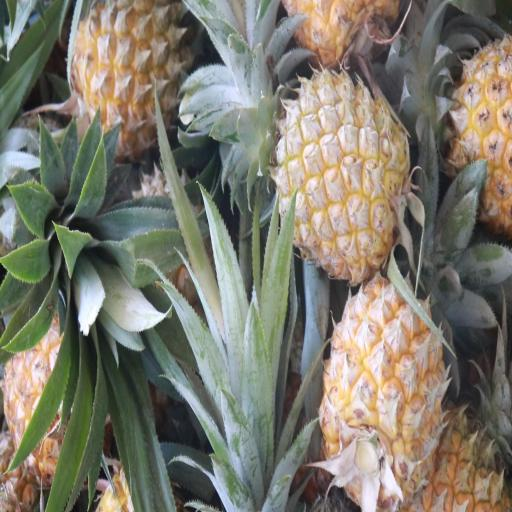------------------------------: (66, 0, 187, 155)
Pineapple - v8 v1: (273, 67, 409, 278), (324, 276, 442, 507), (428, 2, 512, 220)
